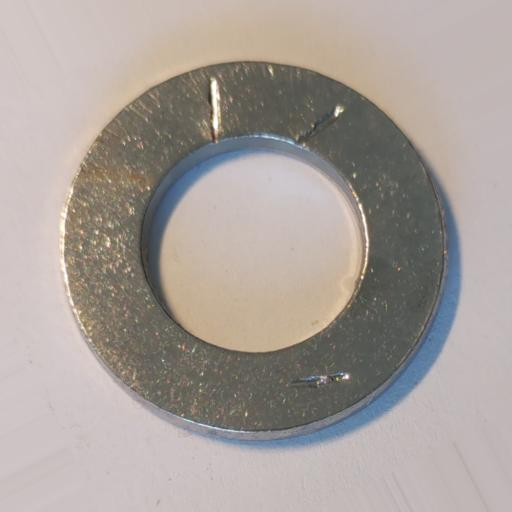scratch: (297, 103, 345, 145), (288, 371, 352, 389), (207, 77, 223, 143)
